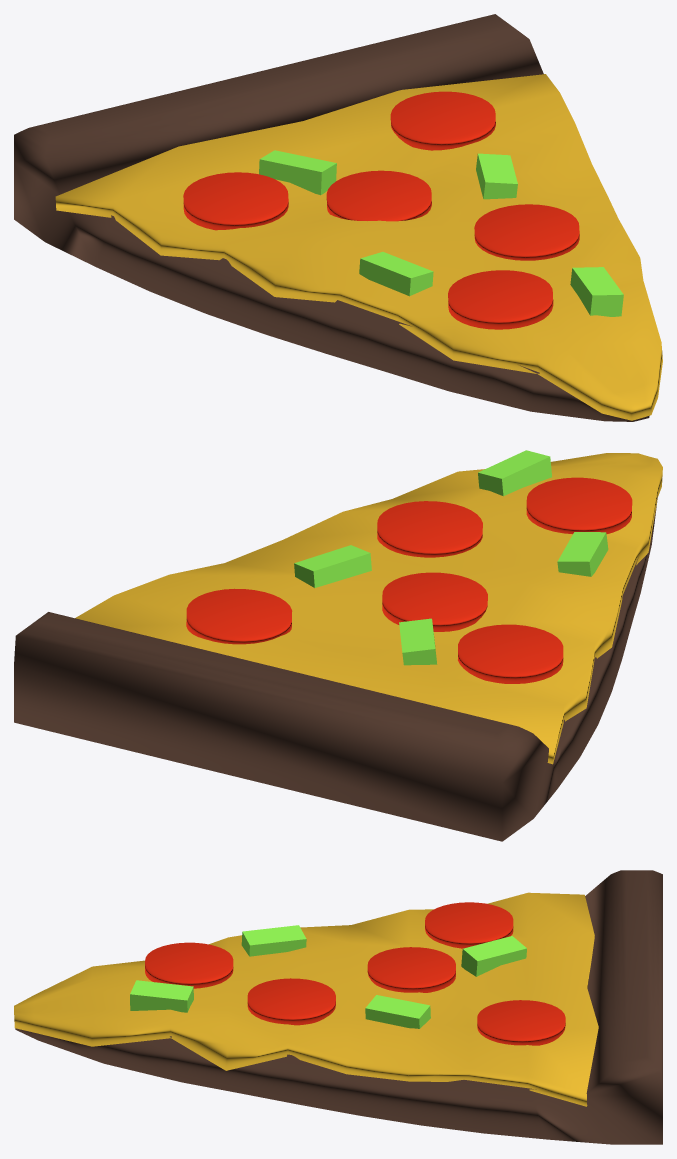
Rendered from pizza.fbx.
The picture shows the model from 3 angles, top to bottom: view 1: azimuth 30°, elevation 25°; view 2: azimuth 150°, elevation 25°; view 3: azimuth 270°, elevation 25°; orthographic projection. The views are drawn at different scales.
Visible parts, largest first — view 1: Pizza; view 2: Pizza; view 3: Pizza.
Part boxes in pixels (left/top/right/bottom): Pizza: left=14, top=14, right=662, bottom=421; Pizza: left=14, top=450, right=662, bottom=841; Pizza: left=14, top=870, right=662, bottom=1144.
Size of the model in its own units: 137 by 26.04 by 187.
